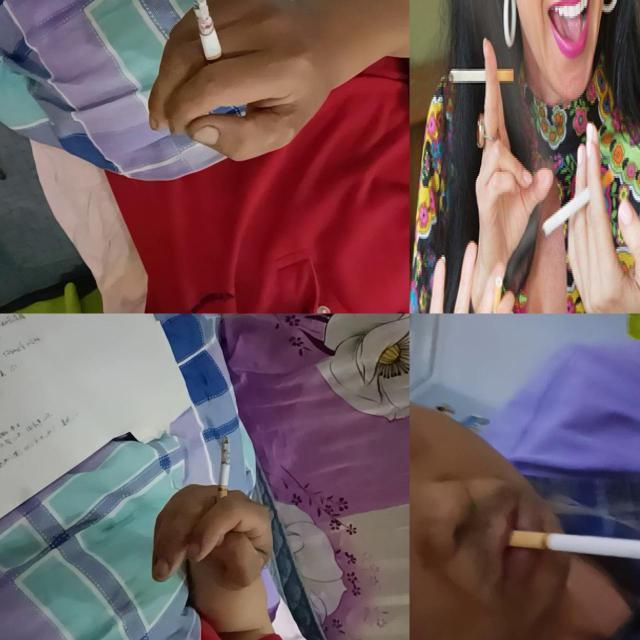smoking: (540, 168, 614, 232), (508, 530, 640, 562), (192, 0, 227, 76), (215, 436, 231, 520), (448, 64, 514, 84)
